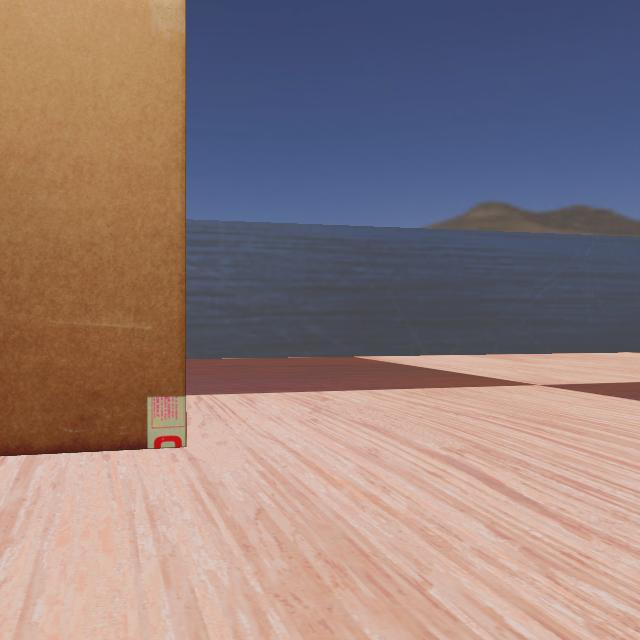cardboard-box: (0, 1, 236, 532)
